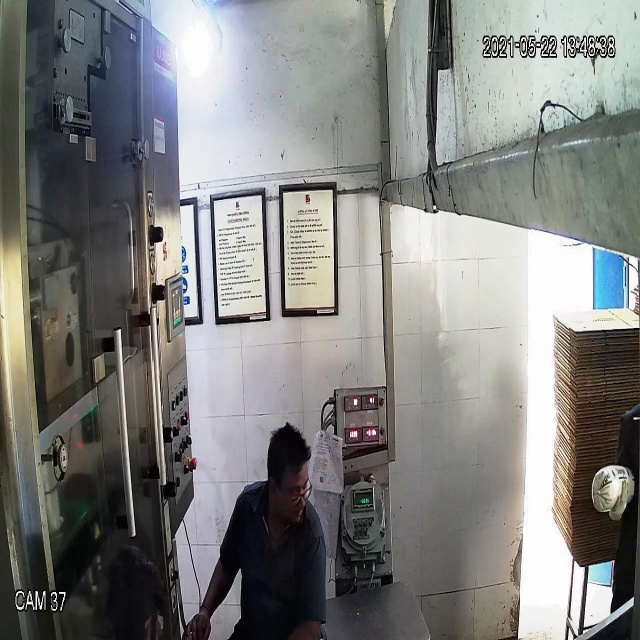Gafas: (262, 470, 314, 509)
